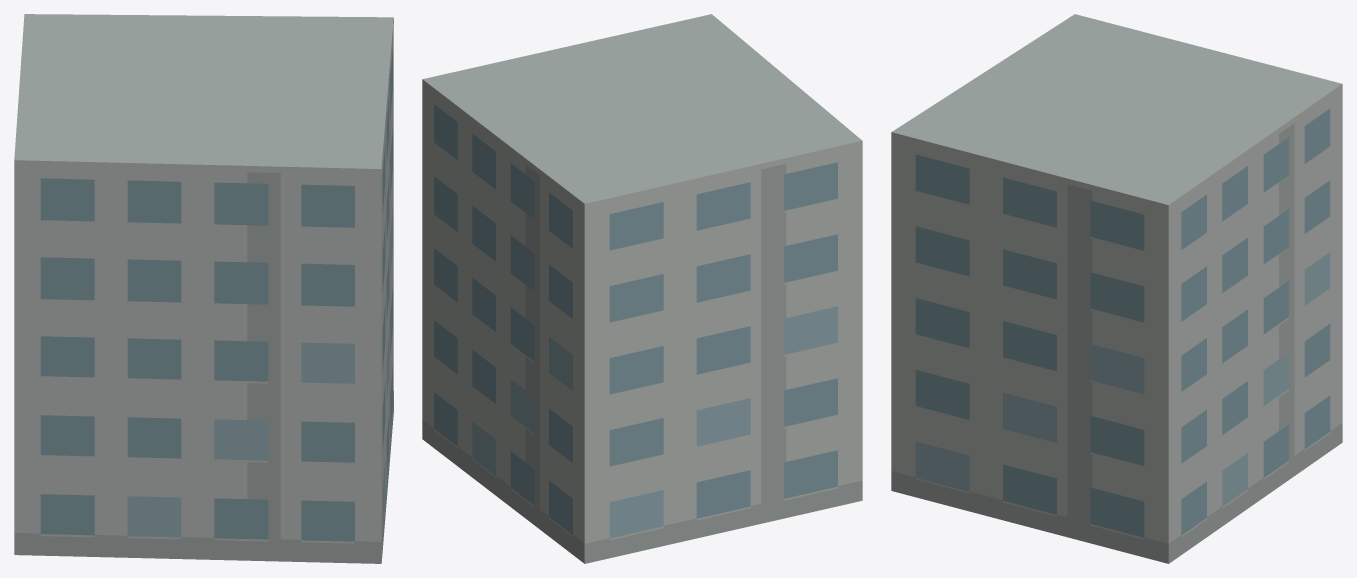
The model's file is survey-upis-32783296.glb.
3 renders of one model, left to right at view 1: azimuth 30°, elevation 25°; view 2: azimuth 150°, elevation 25°; view 3: azimuth 270°, elevation 25°, orthographic. The views are drawn at different scales.
Visible parts, largest first — view 1: survey-upis-32783296.tmp; view 2: survey-upis-32783296.tmp; view 3: survey-upis-32783296.tmp.
Boxes of the visible parts, x1=… form: survey-upis-32783296.tmp: x1=14, y1=14, x2=393, y2=563; survey-upis-32783296.tmp: x1=422, y1=14, x2=862, y2=563; survey-upis-32783296.tmp: x1=891, y1=14, x2=1342, y2=563.
Size of the model in its own units: 17.43 by 15.25 by 17.39.
